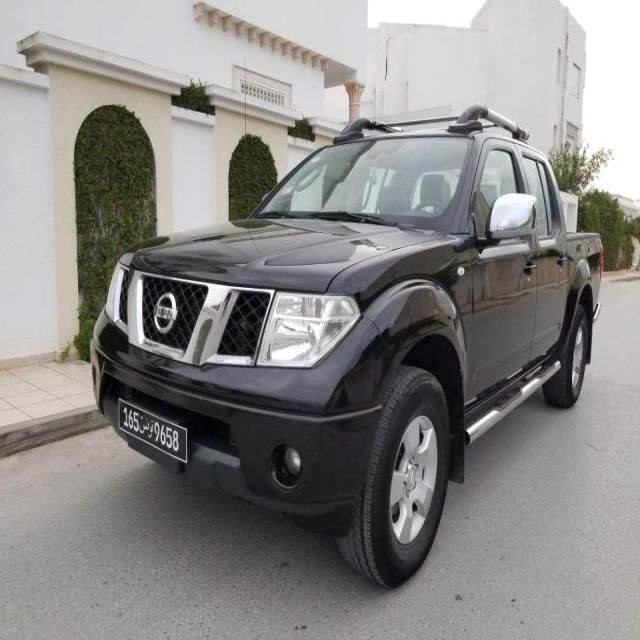LP: (116, 397, 187, 464)
